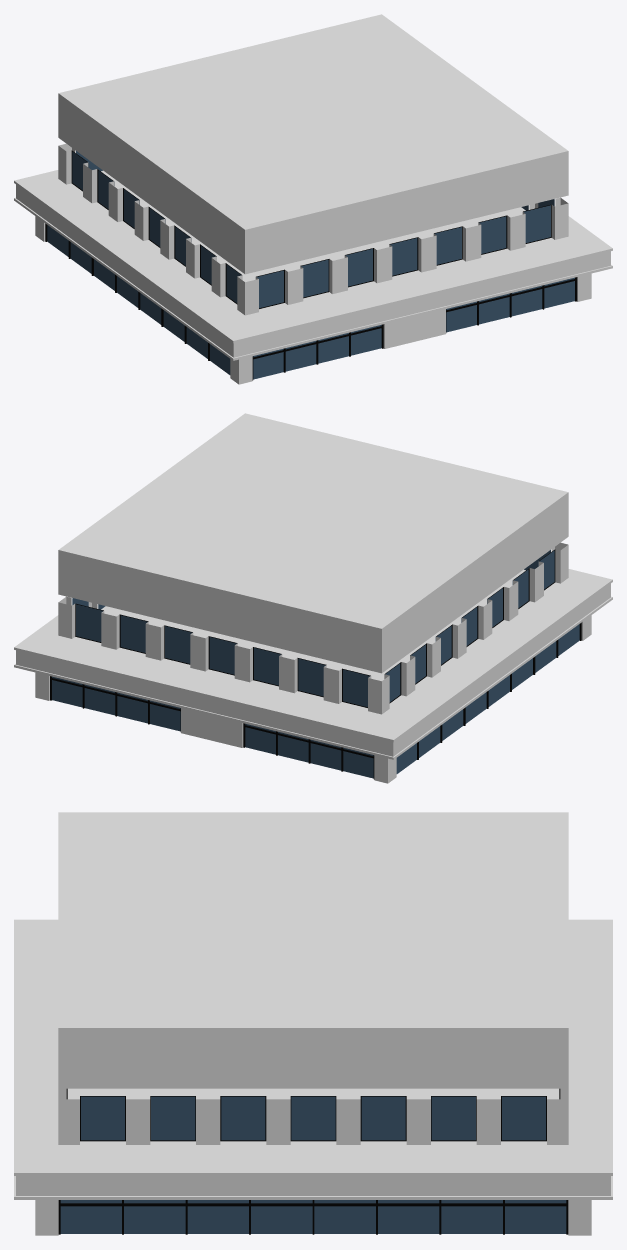
File: BGC 5.fbx
3 views of the same model, one above another, from view 1: azimuth 30°, elevation 25°; view 2: azimuth 150°, elevation 25°; view 3: azimuth 270°, elevation 25° (orthographic). The views are drawn at different scales.
Parts seen in each view (by area): view 1: BGC5_Roof, BGC5_Base_Top, BGC5_Floor_Main, BGC5_Floor_Windows, BGC5_Base_Windows, BGC5_Base_Main, BGC5_Base_Frame, BGC5_Floor_Frame; view 2: BGC5_Roof, BGC5_Base_Top, BGC5_Floor_Main, BGC5_Floor_Windows, BGC5_Base_Windows, BGC5_Base_Main, BGC5_Base_Frame, BGC5_Floor_Frame; view 3: BGC5_Roof, BGC5_Base_Top, BGC5_Base_Windows, BGC5_Floor_Windows, BGC5_Floor_Main, BGC5_Base_Frame, BGC5_Floor_Frame, BGC5_Base_Main.
Boxes of the visible parts, x1,y1,x2,y2 form: BGC5_Roof: (58, 14, 568, 274); BGC5_Base_Top: (14, 170, 612, 360); BGC5_Floor_Main: (58, 143, 568, 315); BGC5_Floor_Windows: (72, 151, 554, 308); BGC5_Base_Windows: (47, 225, 574, 379); BGC5_Base_Main: (35, 216, 591, 384); BGC5_Base_Frame: (45, 223, 576, 380); BGC5_Floor_Frame: (71, 150, 551, 308); BGC5_Roof: (58, 413, 568, 673); BGC5_Base_Top: (14, 569, 612, 759); BGC5_Floor_Main: (58, 542, 568, 714); BGC5_Floor_Windows: (72, 550, 554, 707); BGC5_Base_Windows: (52, 624, 579, 778); BGC5_Base_Main: (35, 615, 591, 783); BGC5_Base_Frame: (50, 622, 581, 779); BGC5_Floor_Frame: (75, 549, 555, 707); BGC5_Roof: (58, 812, 568, 1088); BGC5_Base_Top: (14, 919, 612, 1199); BGC5_Base_Windows: (60, 1200, 566, 1233); BGC5_Floor_Windows: (81, 1096, 545, 1140); BGC5_Floor_Main: (58, 1088, 568, 1144); BGC5_Base_Frame: (58, 1200, 568, 1234); BGC5_Floor_Frame: (66, 1088, 560, 1141); BGC5_Base_Main: (35, 1200, 591, 1235).
Bounding box in the file's own units: 3086 × 1127 × 3086.
